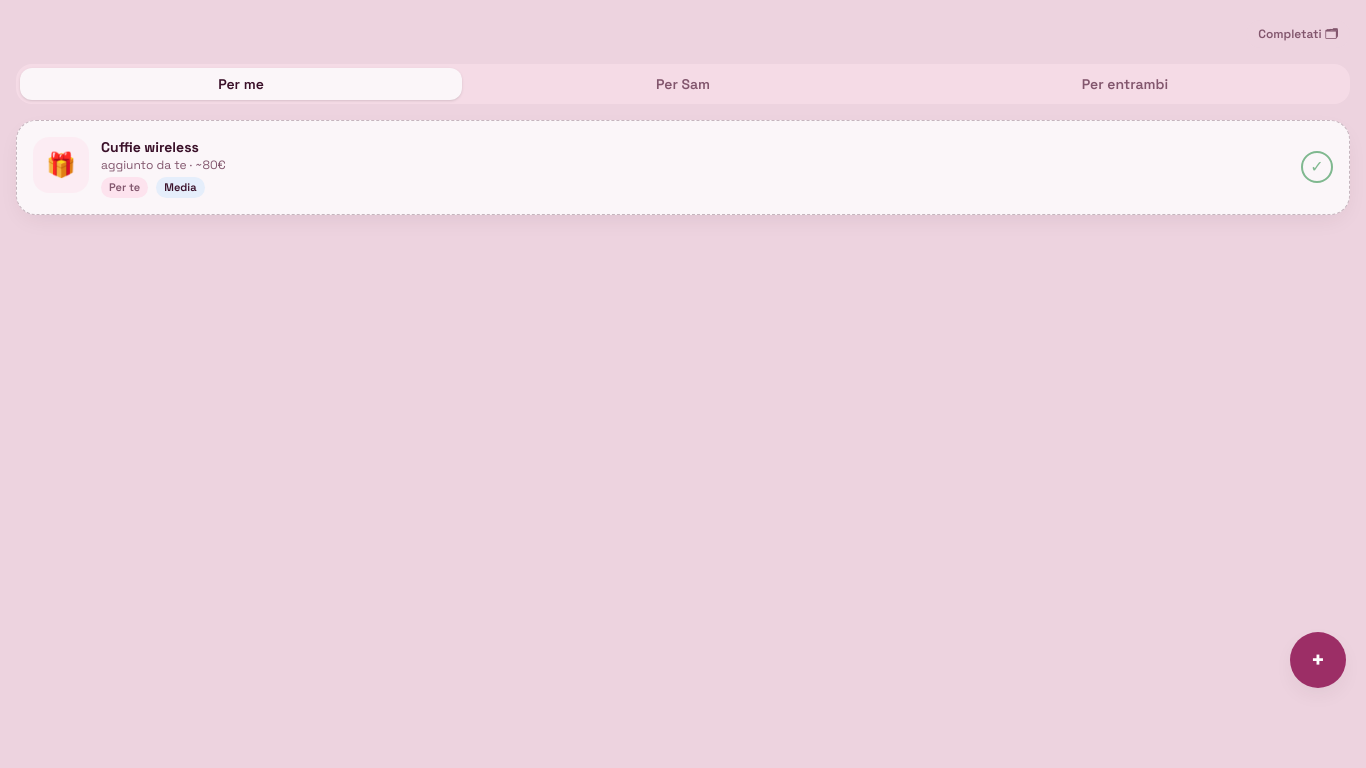
Test: WishlistView — completamento ottimistico › BUG FISSATO da frontend2 (2026-09-01): in caso di errore della RPC, il messaggio ora persiste a schermo dopo il refetch. Causa originale: `complete()` chiamava
The image size is (1366, 768).
Expected: the text "Cuffie wireless" is shown, [101,138,199,156]
Click the button named "Segna come completato".
click(1317, 167)  # box [1301,151,1333,183]
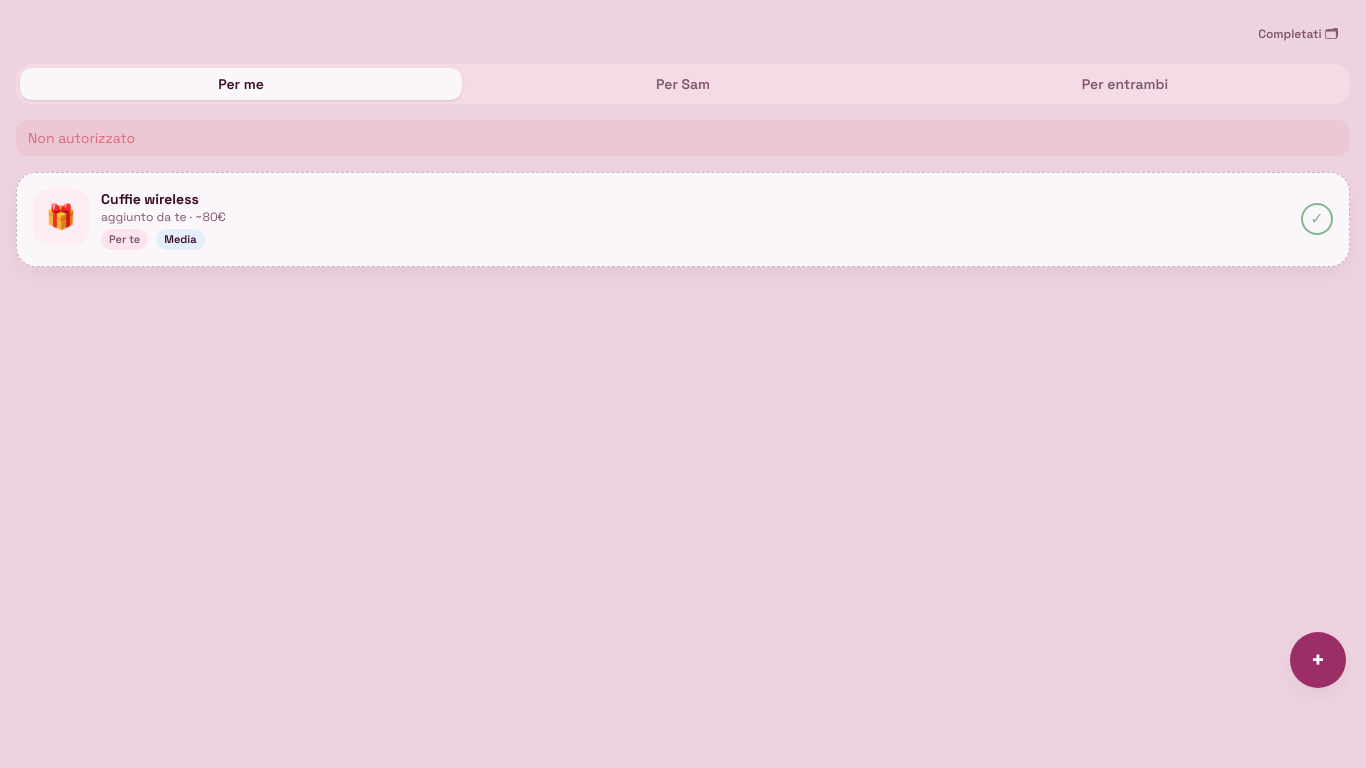
Now the text "Non autorizzato" is shown, box [16,120,1350,156]
